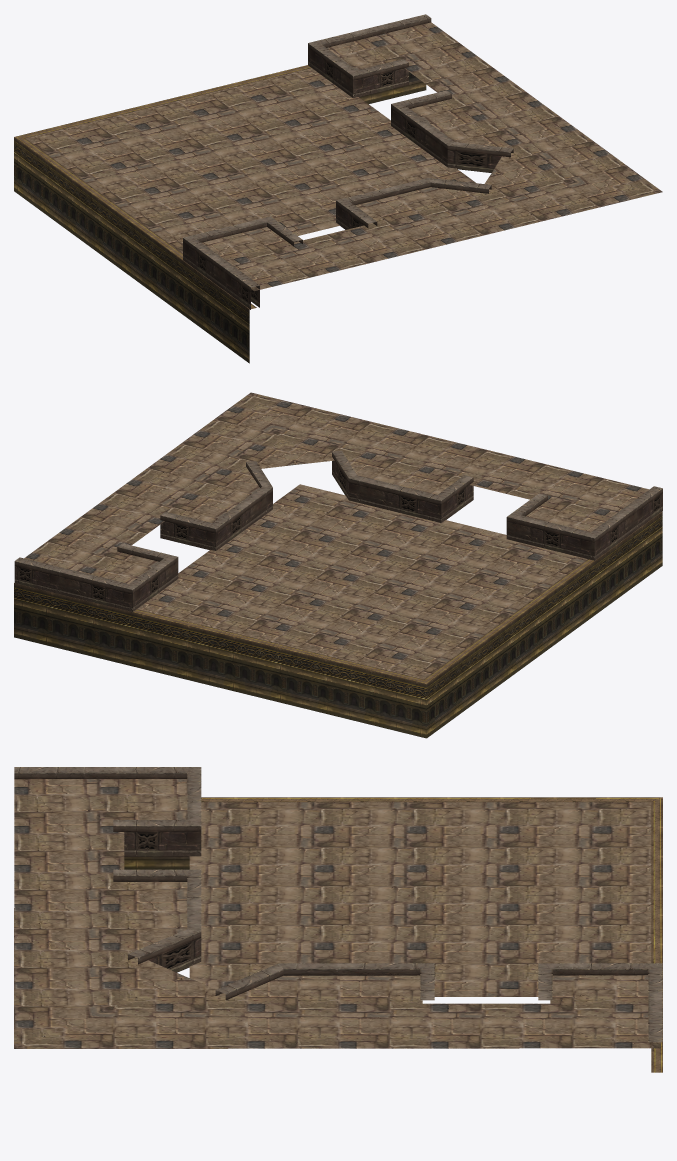
Rendered from room_03.FBX.
3 renders of one model, top to bottom at view 1: azimuth 30°, elevation 25°; view 2: azimuth 150°, elevation 25°; view 3: azimuth 270°, elevation 25°, orthographic. The views are drawn at different scales.
Visible parts, largest first — view 1: room_03; view 2: room_03; view 3: room_03.
Part boxes in pixels (x1=…): room_03: x1=14, y1=14, x2=662, y2=363; room_03: x1=14, y1=392, x2=662, y2=738; room_03: x1=14, y1=767, x2=662, y2=1072.
Size of the model in its own units: 25.1 by 4.45 by 24.96.
